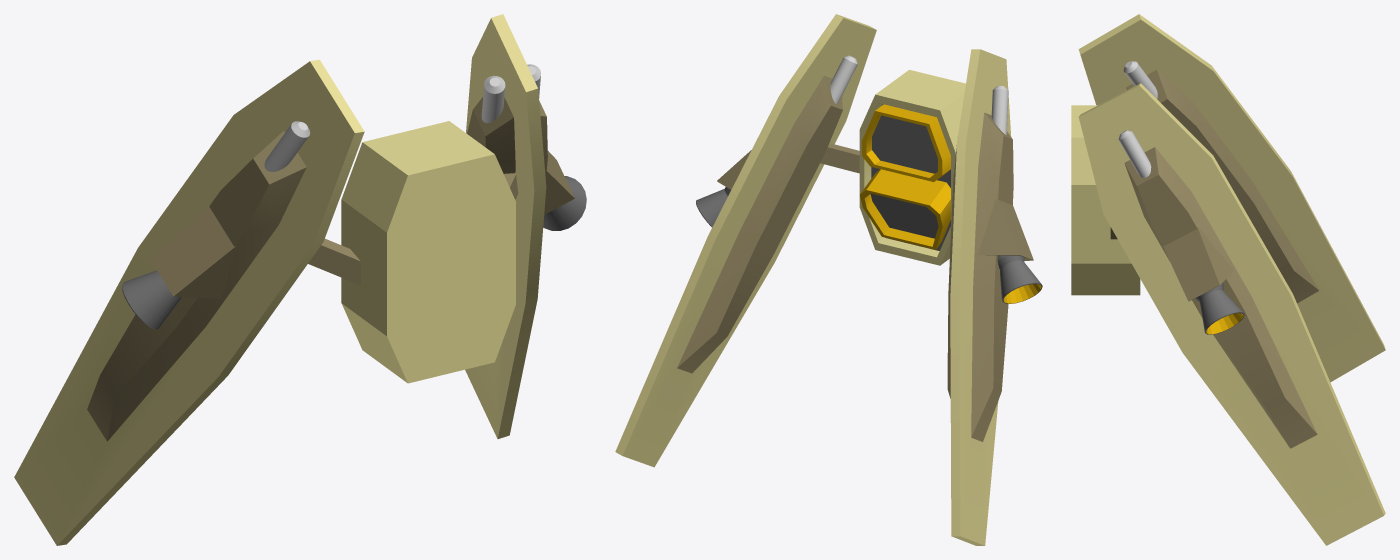
Rendered from LightBackpack.fbx.
3 renders of one model, left to right at view 1: azimuth 30°, elevation 25°; view 2: azimuth 150°, elevation 25°; view 3: azimuth 270°, elevation 25°, orthographic. The views are drawn at different scales.
Visible parts, largest first — view 1: pCube75, pCube71, pCube74, pCube73 (×2), pCylinder37 (×2), pCylinder40, pCube79, pCylinder39; view 2: pCube74, pCube75, pCube71, pCube77, pCube76, pCube73, pCylinder40, pCylinder37 (×2), pCube78, pCylinder39; view 3: pCube74, pCube75, pCube71, pCube73, pCylinder39, pCylinder36 (×2).
Boxes of the visible parts, x1,y1,x2,y2 form: pCube75: [14, 59, 364, 545]; pCube71: [341, 121, 515, 383]; pCube74: [465, 14, 547, 438]; pCube73 (×2): [150, 150, 574, 298]; pCylinder37 (×2): [264, 75, 505, 171]; pCylinder40: [122, 270, 181, 329]; pCube79: [308, 238, 360, 285]; pCylinder39: [543, 176, 586, 230]; pCube74: [615, 14, 876, 467]; pCube75: [947, 49, 1013, 545]; pCube71: [859, 69, 965, 265]; pCube77: [860, 169, 950, 249]; pCube76: [862, 104, 950, 181]; pCube73: [978, 198, 1033, 260]; pCylinder40: [997, 255, 1042, 303]; pCylinder37 (×2): [830, 55, 1008, 134]; pCube78: [820, 143, 859, 173]; pCylinder39: [696, 187, 730, 227]; pCube74: [1078, 83, 1385, 545]; pCube75: [1078, 14, 1385, 382]; pCube71: [1071, 105, 1140, 295]; pCube73: [1162, 227, 1234, 301]; pCylinder39: [1195, 282, 1244, 334]; pCylinder36 (×2): [1118, 61, 1157, 177].
Bounding box in the file's own units: 8.86 × 9.99 × 6.88.
